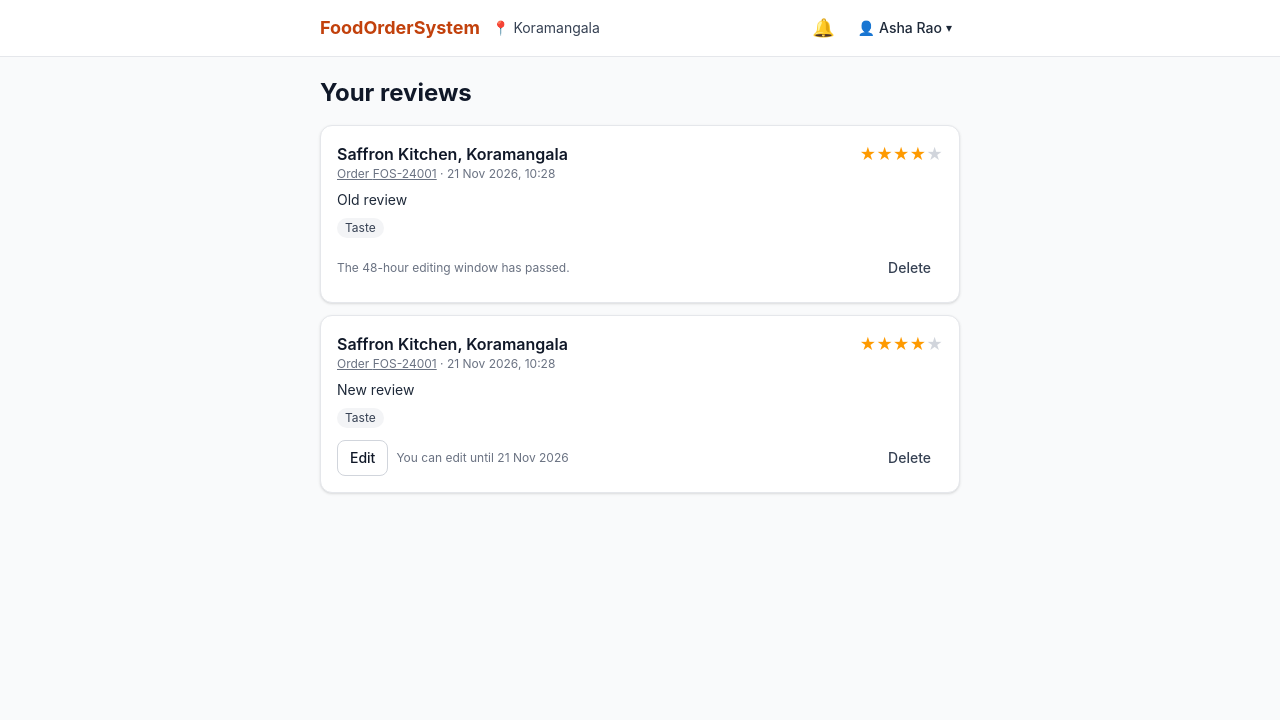
customer account area › blocks editing a review after the 48-hour window
Expected: the text "The 48-hour editing window has passed." is shown, [337,260,570,276]
# The server has the final say: a window that closes meanwhile is explained too.
Click the button "Edit". click: {"x": 363, "y": 458}
box: [337,440,388,476]
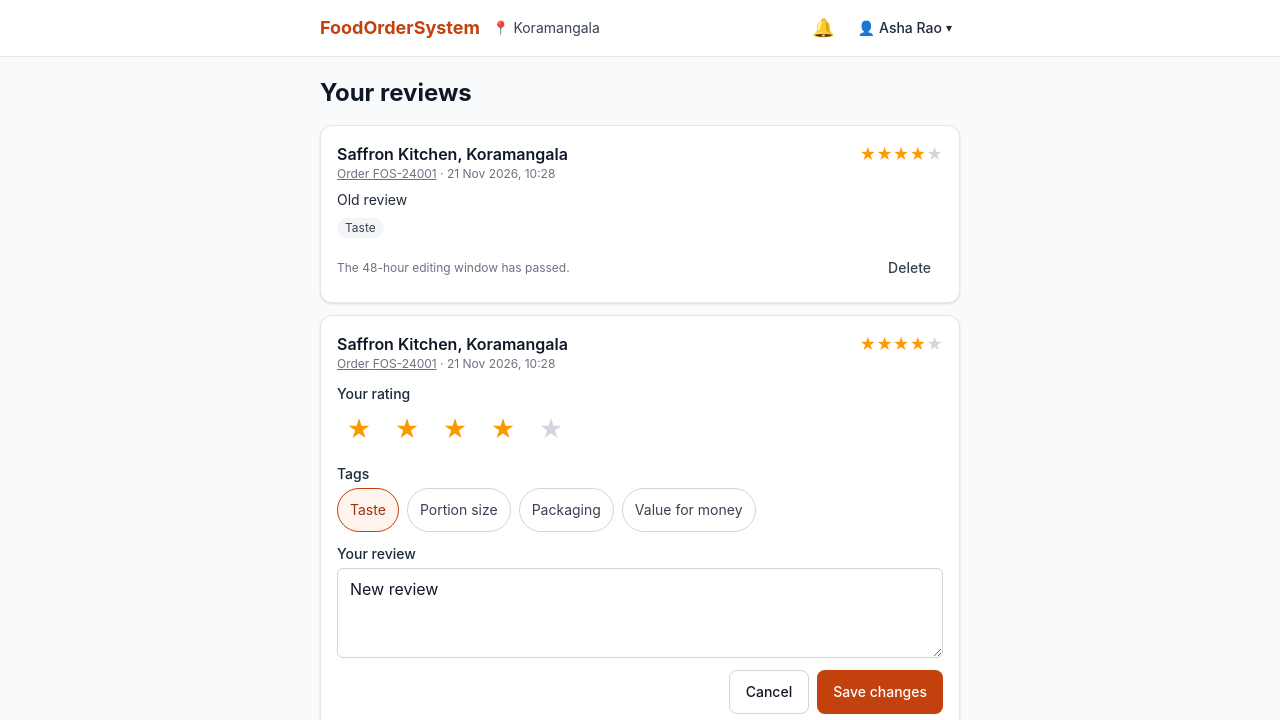
Click the radio button named "5 stars". click: {"x": 551, "y": 430}
box: [538,415,564,444]
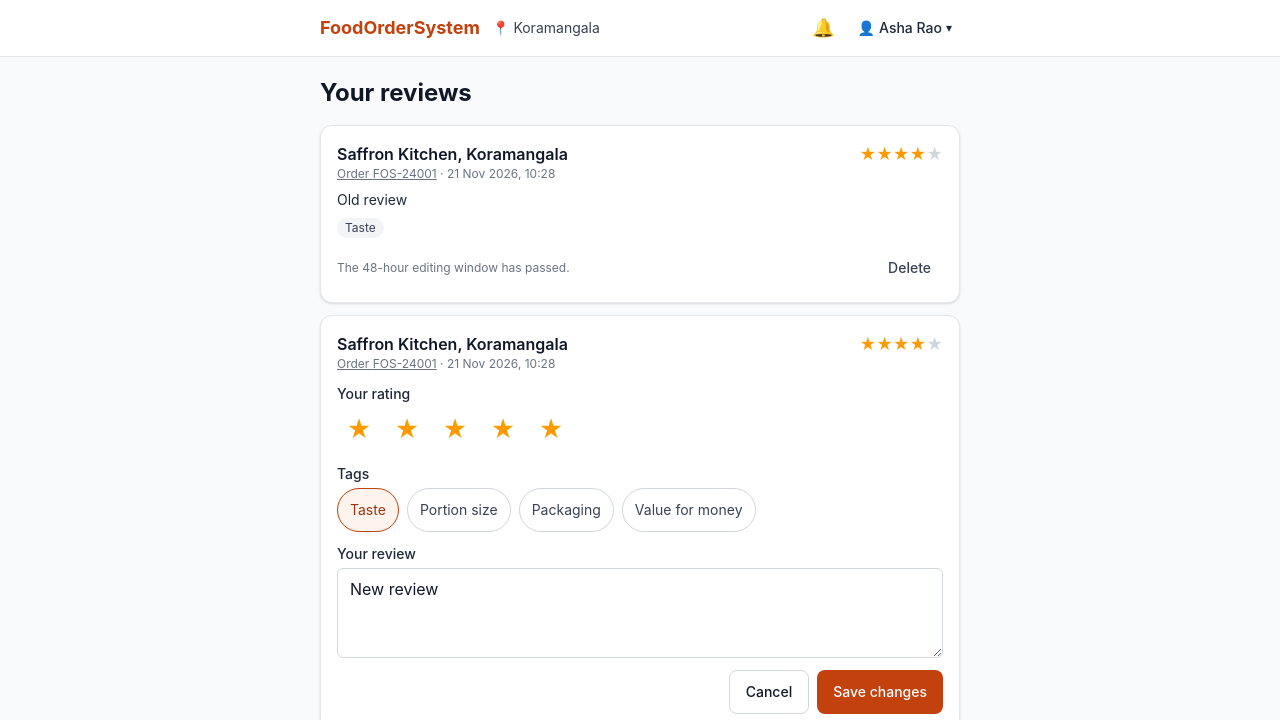
Click the button "Save changes". click: {"x": 880, "y": 692}
box: [817,670,943,714]
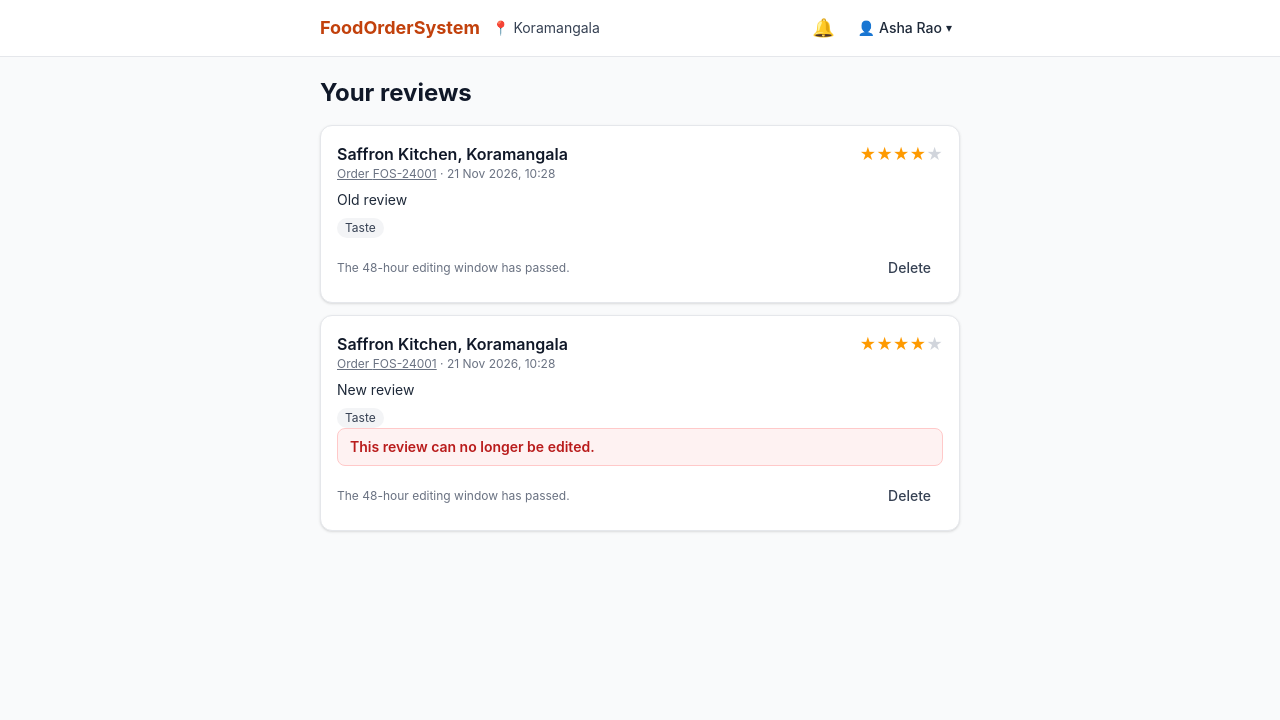
Expected: the text "This review can no longer be edited." is shown, [350,438,595,455]
